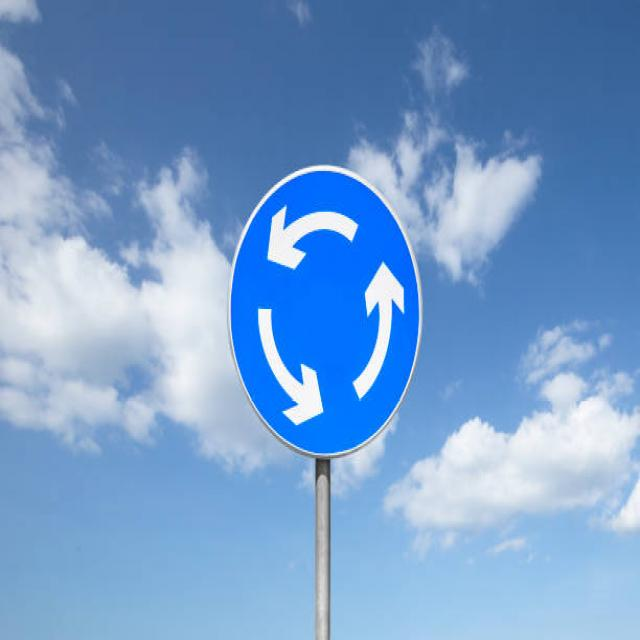round_about: (224, 161, 426, 458)
